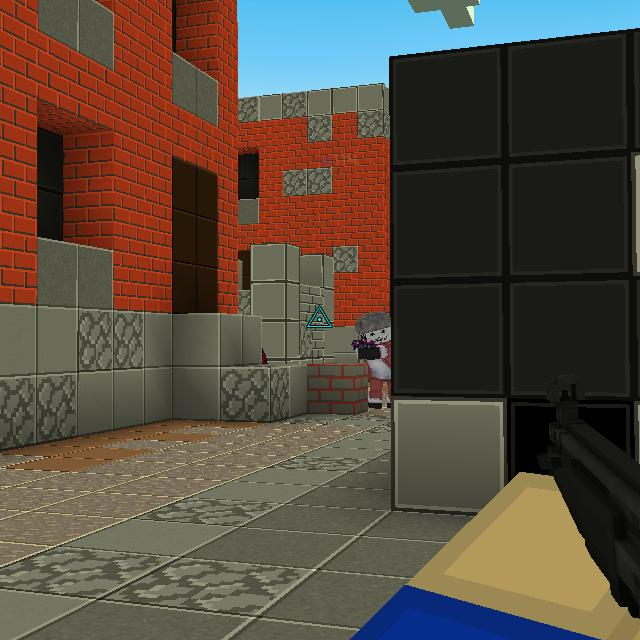enemy: (354, 310, 391, 410), (262, 348, 269, 364)
